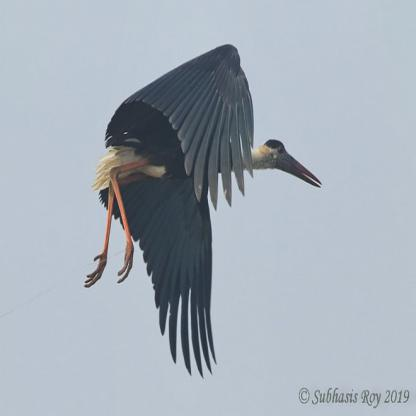Burung: (80, 43, 323, 375)
